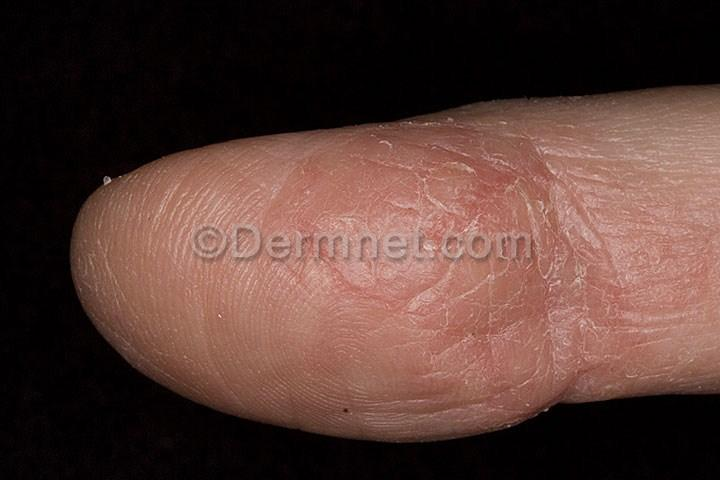Eczema: (115, 222, 242, 338), (226, 235, 336, 345), (589, 135, 675, 257), (400, 245, 479, 368), (326, 315, 416, 420), (229, 161, 348, 233), (215, 343, 326, 420), (464, 236, 549, 334), (320, 203, 396, 311), (538, 136, 598, 257), (155, 166, 237, 248), (553, 333, 648, 403), (581, 98, 705, 145), (599, 258, 689, 321), (638, 321, 719, 389), (674, 196, 715, 328), (399, 192, 488, 246), (328, 132, 393, 203), (546, 253, 601, 336), (411, 367, 479, 434), (76, 226, 122, 323), (484, 162, 541, 238), (475, 347, 539, 414), (247, 135, 351, 176), (425, 114, 476, 196), (98, 186, 165, 244), (375, 123, 427, 196), (129, 338, 217, 380), (477, 103, 534, 159), (160, 154, 250, 182), (196, 356, 235, 409), (520, 102, 580, 135), (326, 421, 414, 440), (691, 152, 720, 202)
